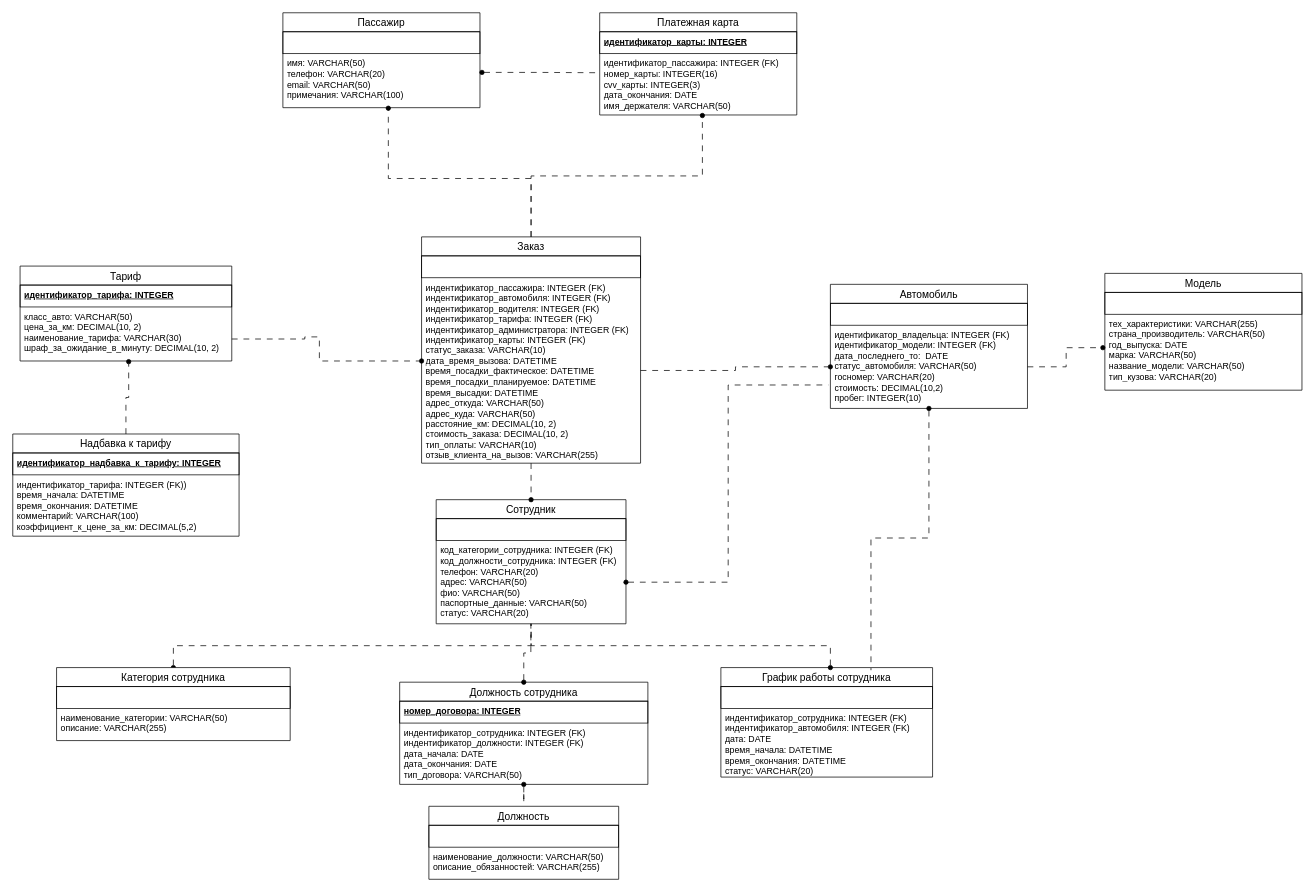
Image size: 1315x894. Some labels were removed from this diagram. The shapes that lost their labels are listed below. From the top down, each one's box as (x1, y1, x2, y2) in pixels, then its label:
(282, 31, 480, 54): идентификатор_пассажира: INTEGER
(421, 255, 641, 278): идентификатор_заказа: INTEGER
(830, 303, 1027, 325): идентификатор_автомобиля: INTEGER
(1104, 292, 1302, 314): идентификатор_модели: INTEGER
(435, 518, 626, 541): идентификатор_сотрудника: INTEGER
(56, 686, 290, 708): идентификатор_категории_сотрудника: INTEGER
(720, 686, 933, 708): идентификатор_графика_работы: INTEGER
(428, 825, 619, 847): идентификатор_должности: INTEGER
